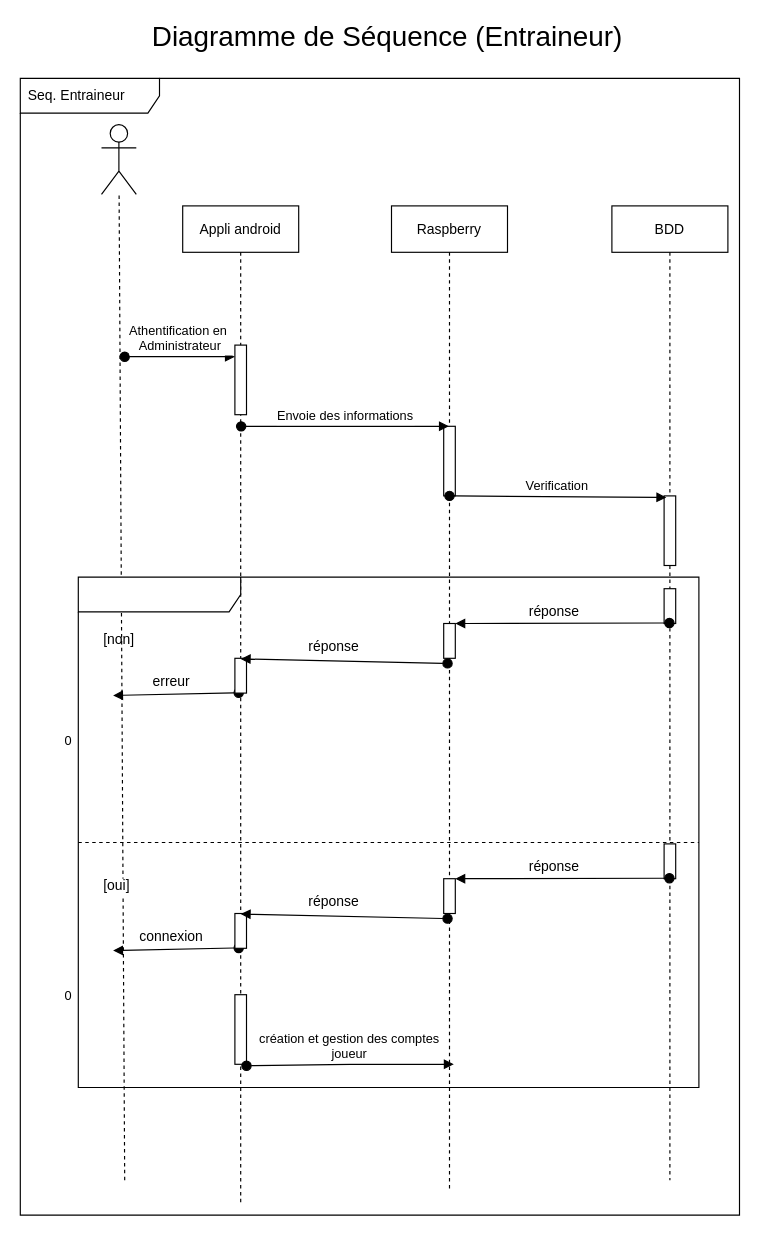
Some shapes in this 760 by 1235 pixel diagram are drawn without their labels. The shapes that lost their labels are listed below. From the top down, each one's box as (x1, y1, x2, y2) in pixels, then its label:
(100, 124, 136, 194): Entraineur
(77, 576, 699, 1088): compte existant ?
